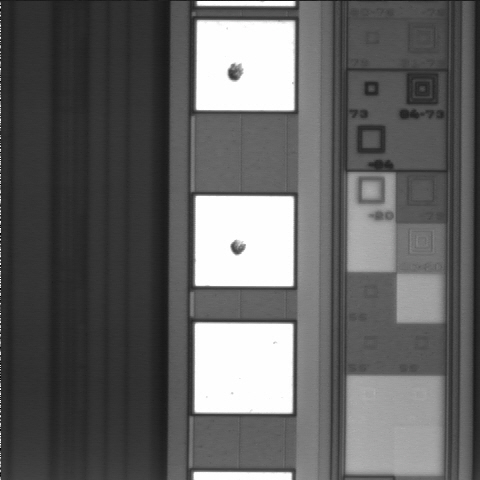pad: (196, 20, 295, 110), (195, 196, 294, 286), (195, 323, 293, 413)
